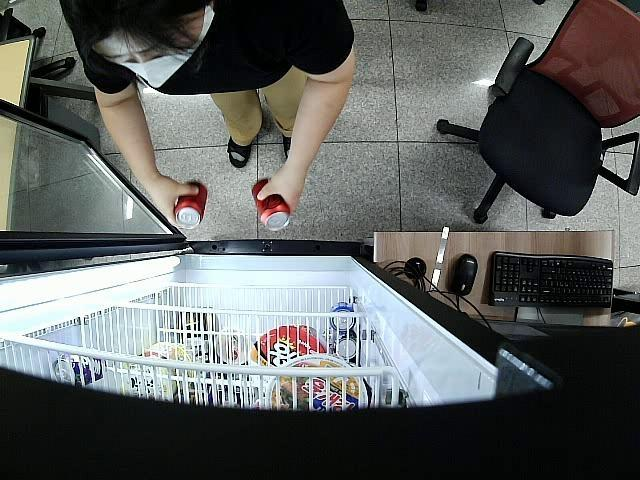11_cocaColaZero: (251, 178, 289, 229), (174, 182, 208, 227)
